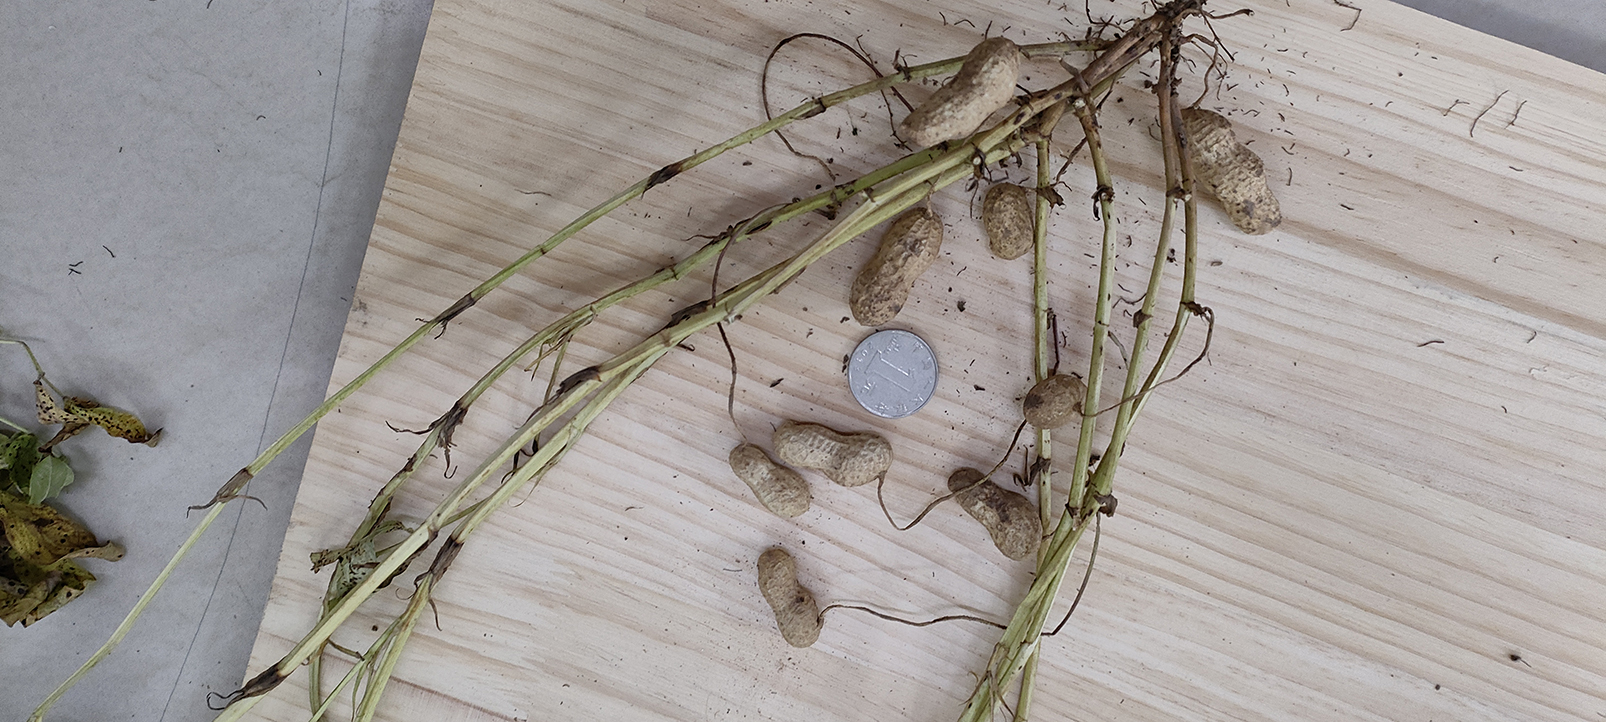h: (900, 37, 1020, 148), (1180, 107, 1282, 233), (849, 209, 943, 327), (771, 418, 894, 486), (757, 549, 823, 647), (729, 443, 811, 517), (983, 182, 1036, 260), (1023, 374, 1089, 428)
l: (947, 467, 1044, 560)
